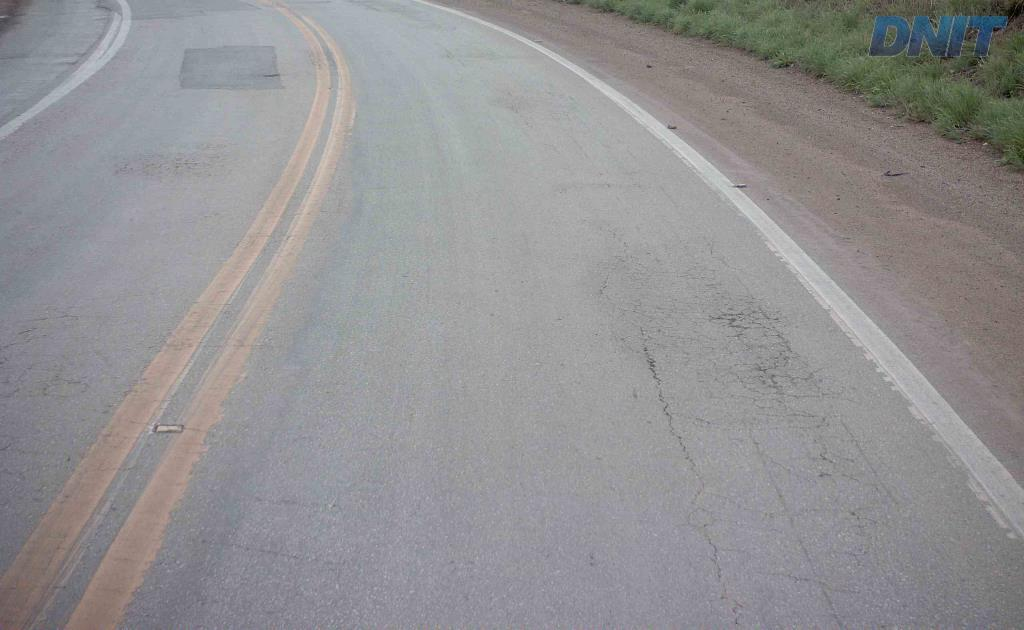crack: (747, 329, 811, 395), (708, 305, 785, 340), (846, 497, 890, 526)
